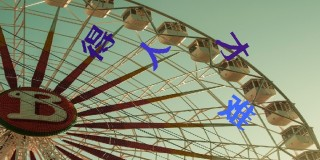人: (140, 39, 171, 71)
得: (80, 25, 115, 60)
才: (216, 31, 249, 60)
难: (218, 93, 256, 130)
